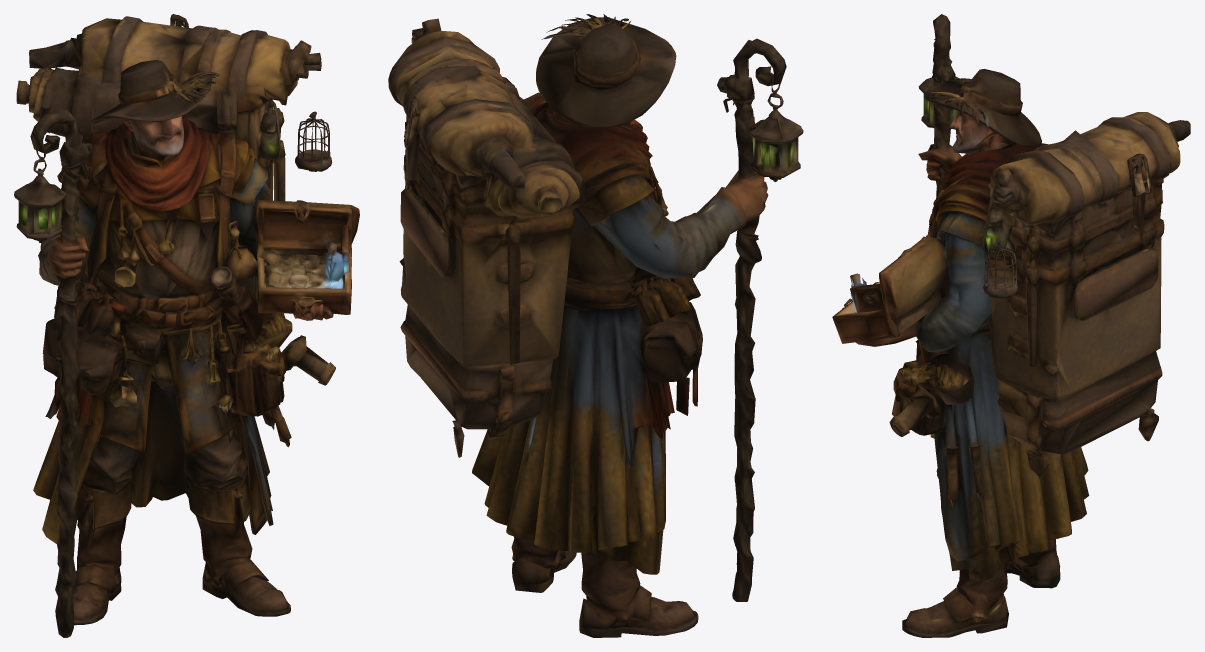
Rendered from merchant.glb.
3 views of the same model, side by side, from view 1: azimuth 30°, elevation 25°; view 2: azimuth 150°, elevation 25°; view 3: azimuth 270°, elevation 25° (orthographic). The views are drawn at different scales.
Parts seen in each view (by area): view 1: material; view 2: material; view 3: material.
Boxes of the visible parts, x1,y1,x2,y2 form: material: [14, 14, 359, 637]; material: [388, 14, 803, 637]; material: [832, 14, 1190, 637].
Bounding box in the file's own units: 0.6735 × 1.03 × 0.6454.
Materials: 1 (1 with a texture image).
